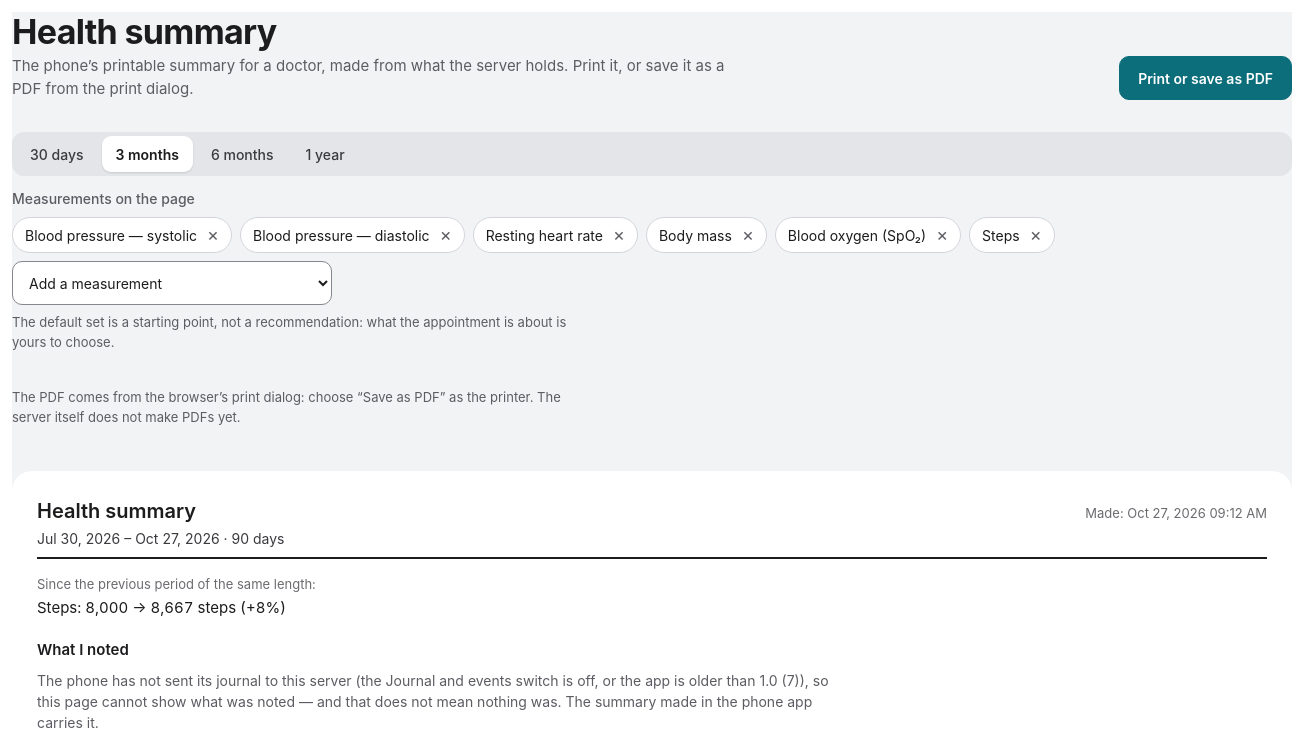
Test: the health summary page › the period picker moves the window it asks for and the period it prints
What coordinates should you click on to do the following:
click the button "30 days"
I would click on:
 (57, 154)
Its box is [16, 136, 98, 172].
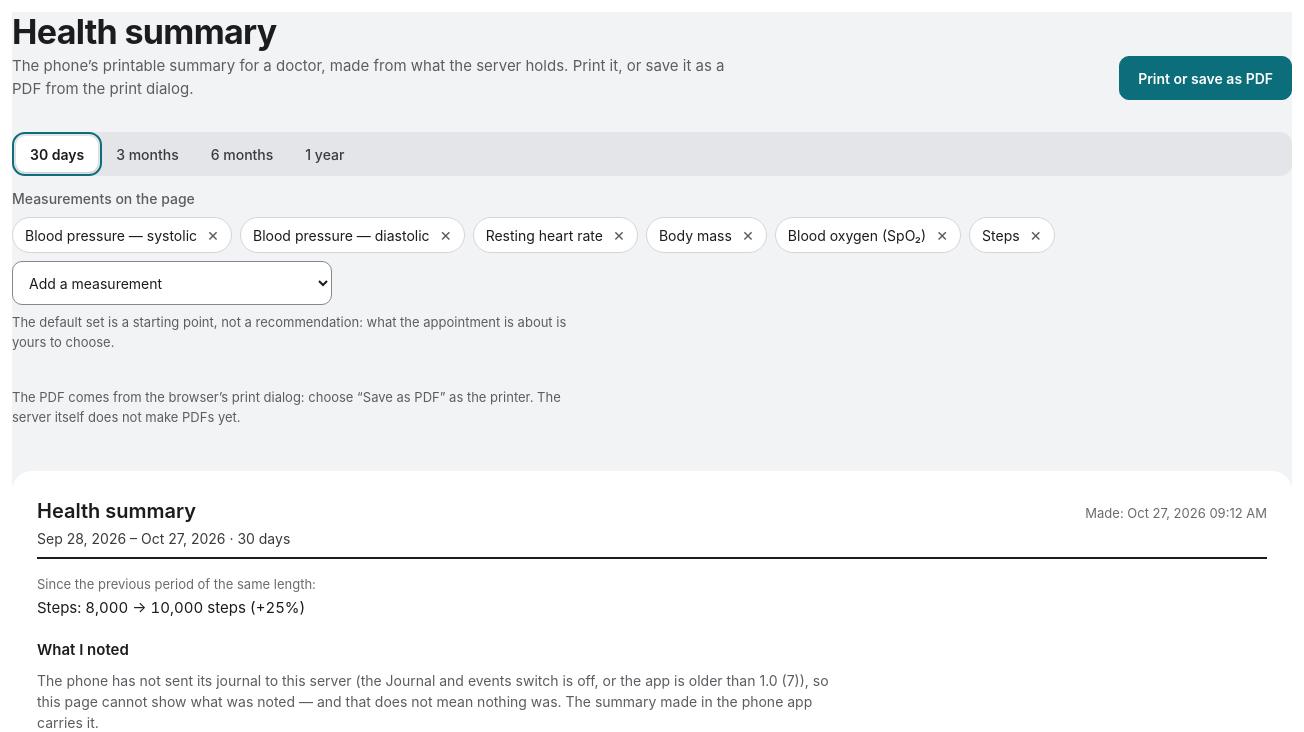
expect the text with test id "report-period" shows "· 30 days": met, box [37, 530, 290, 547]
